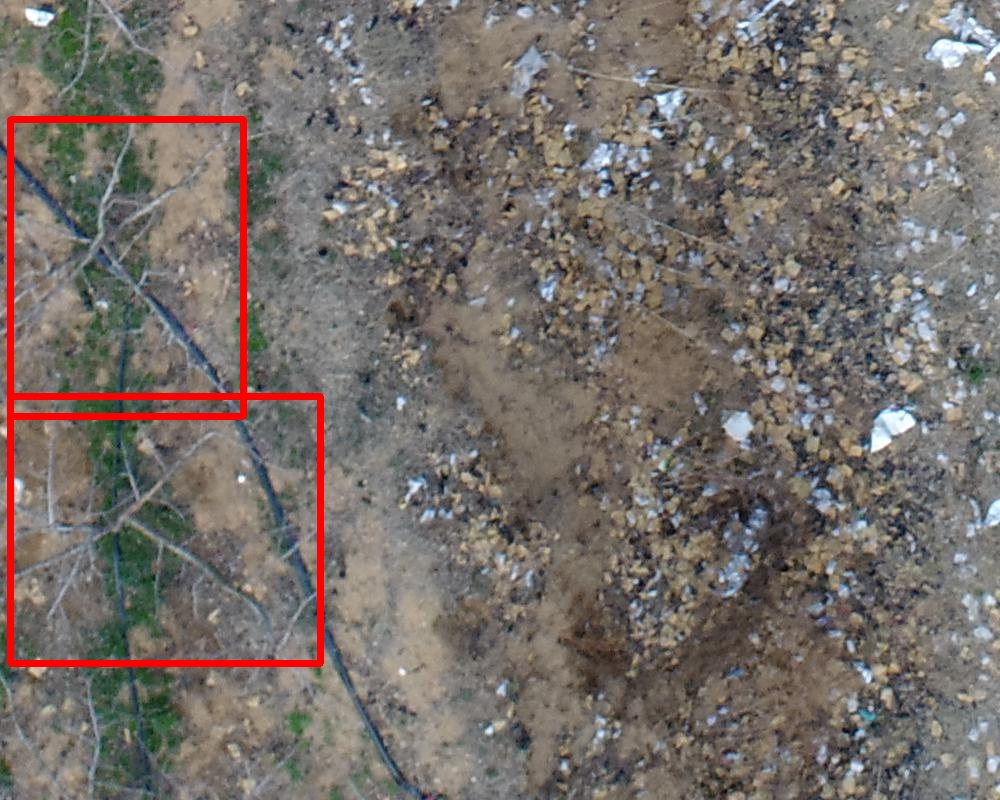apple: (10, 396, 320, 663), (10, 119, 243, 416)
